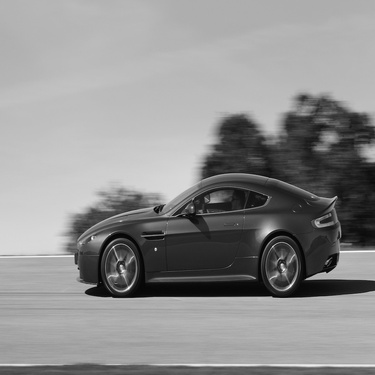car: (56, 166, 354, 301)
